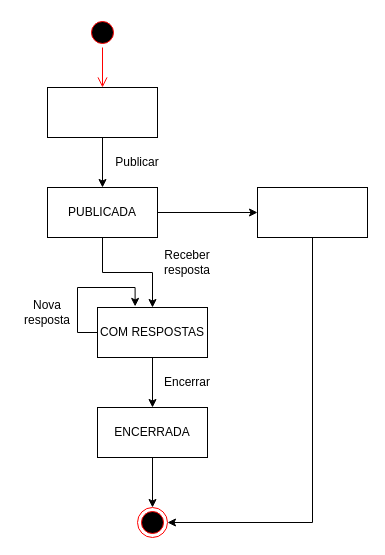
The diagram is 385 pixels wide and 555 high, and some of its shapes have lost their labels. The centre of each missing label's shape, as x and y in pixels:
CRIADA: pixel 102 112
EXCLUÍDA: pixel 312 212
